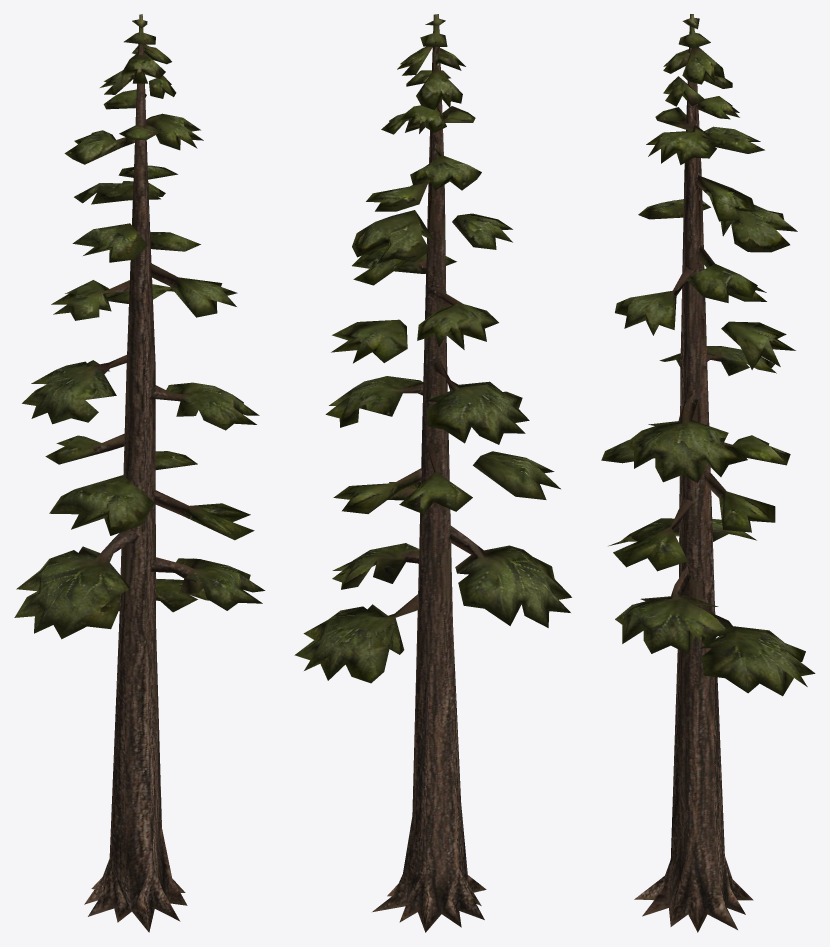
The model's file is spruce-tripo-02.glb.
The picture shows the model from 3 angles, left to right: view 1: azimuth 30°, elevation 25°; view 2: azimuth 150°, elevation 25°; view 3: azimuth 270°, elevation 25°; orthographic projection.
Visible parts, largest first — view 1: tripo_node_29be55df-061e-4dfb-9251-eadcd7522c39; view 2: tripo_node_29be55df-061e-4dfb-9251-eadcd7522c39; view 3: tripo_node_29be55df-061e-4dfb-9251-eadcd7522c39.
Boxes of the visible parts, x1=… form: tripo_node_29be55df-061e-4dfb-9251-eadcd7522c39: x1=14, y1=14, x2=265, y2=932; tripo_node_29be55df-061e-4dfb-9251-eadcd7522c39: x1=294, y1=14, x2=571, y2=932; tripo_node_29be55df-061e-4dfb-9251-eadcd7522c39: x1=601, y1=14, x2=815, y2=932.
Size of the model in its own units: 0.2676 by 0.998 by 0.2168.
1 material, 1 textured.
